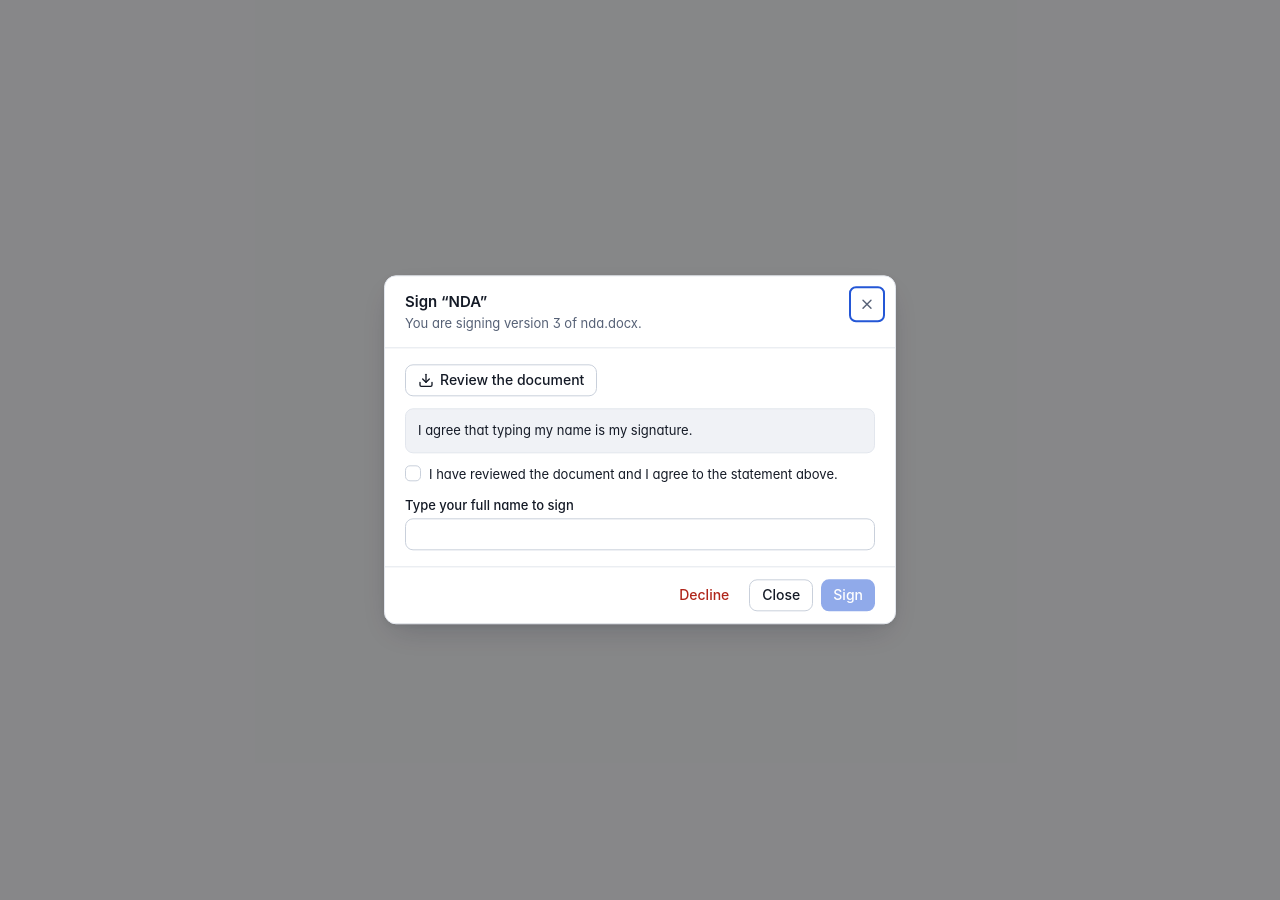
Test: built-in signing dialog › shows the server reason when signing is refused and does not pretend it worked
Expected: the text "I agree that typing my name is my signature." is shown, [405,408,875,453]
Click the checkbox named "agree to the signature statement" at (413, 473), box [405,465,421,481]
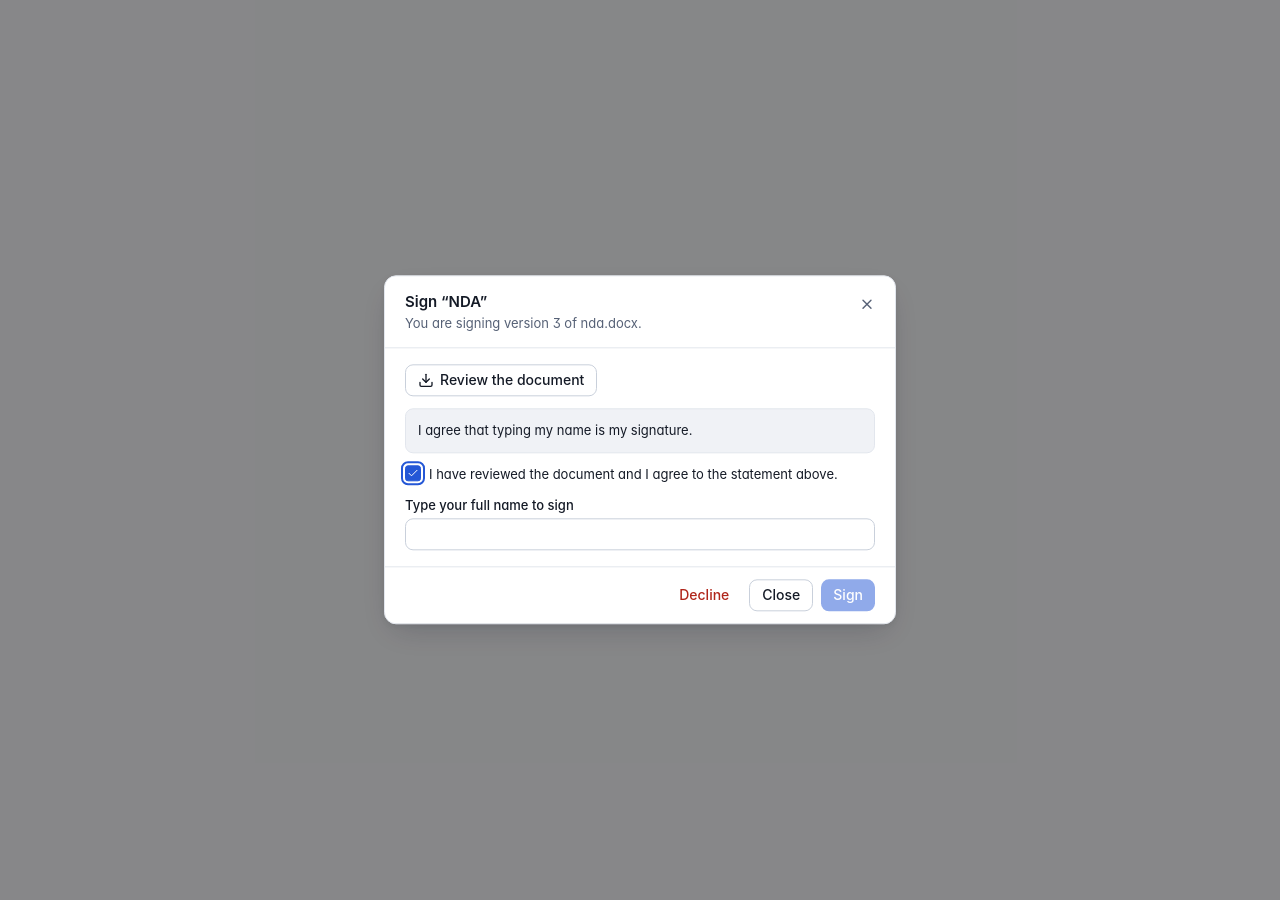
Type "Bob" into the field labelled "Type your full name to sign" at (640, 535), box [405,519,875,551]
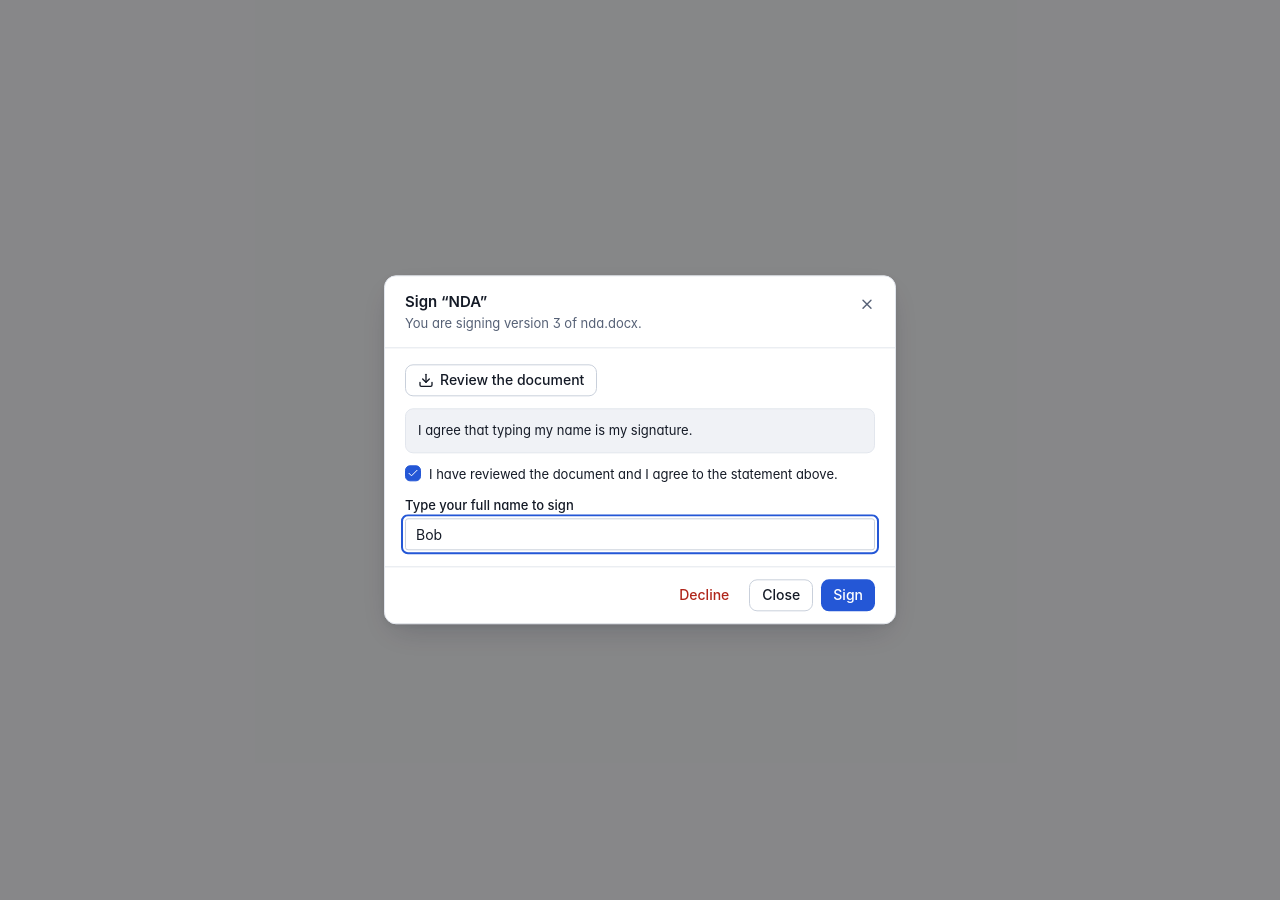
Click the button "Sign" at (848, 596), box [821,580,875,612]
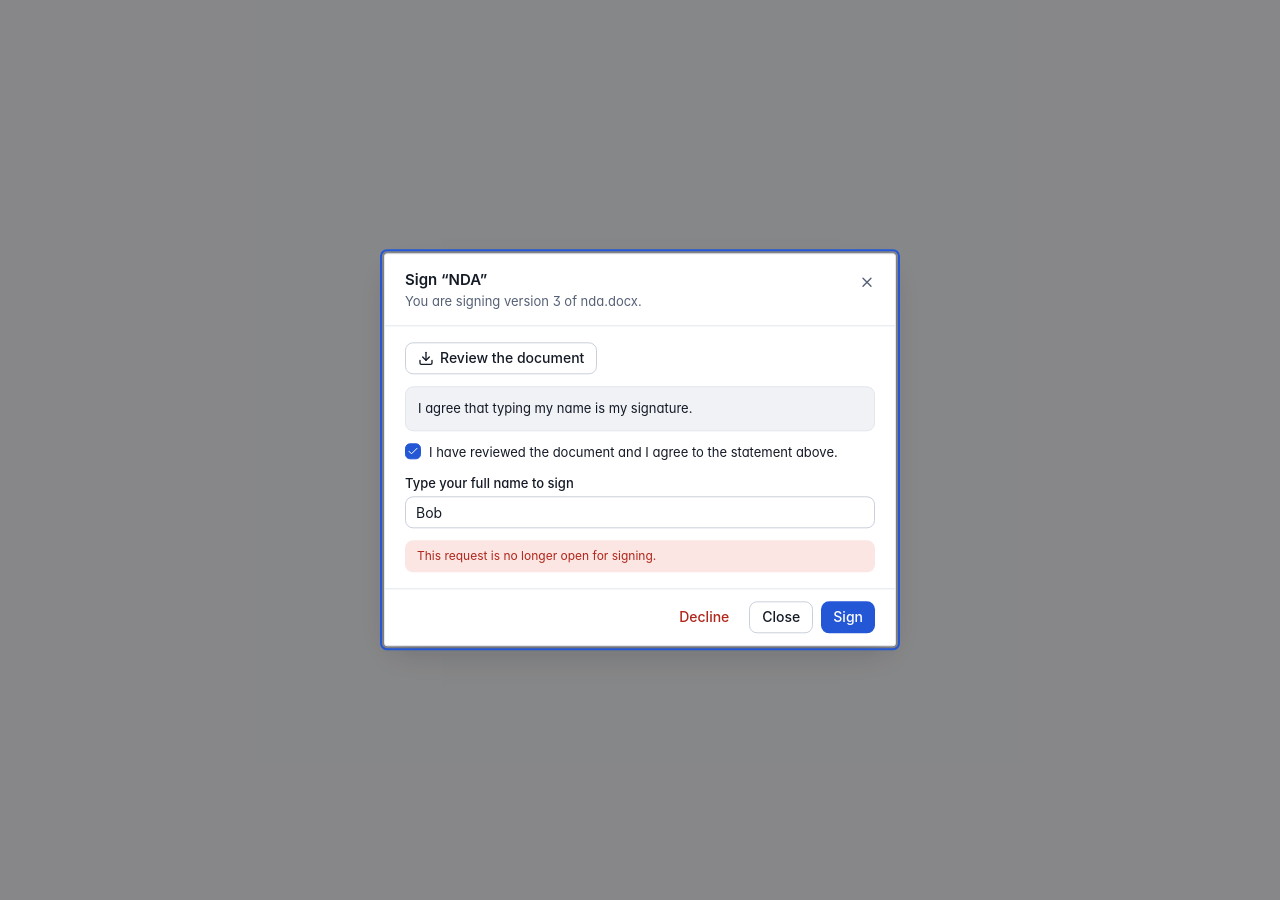
Expected: the message shows "no longer open for signing", [417,549,656,564]
